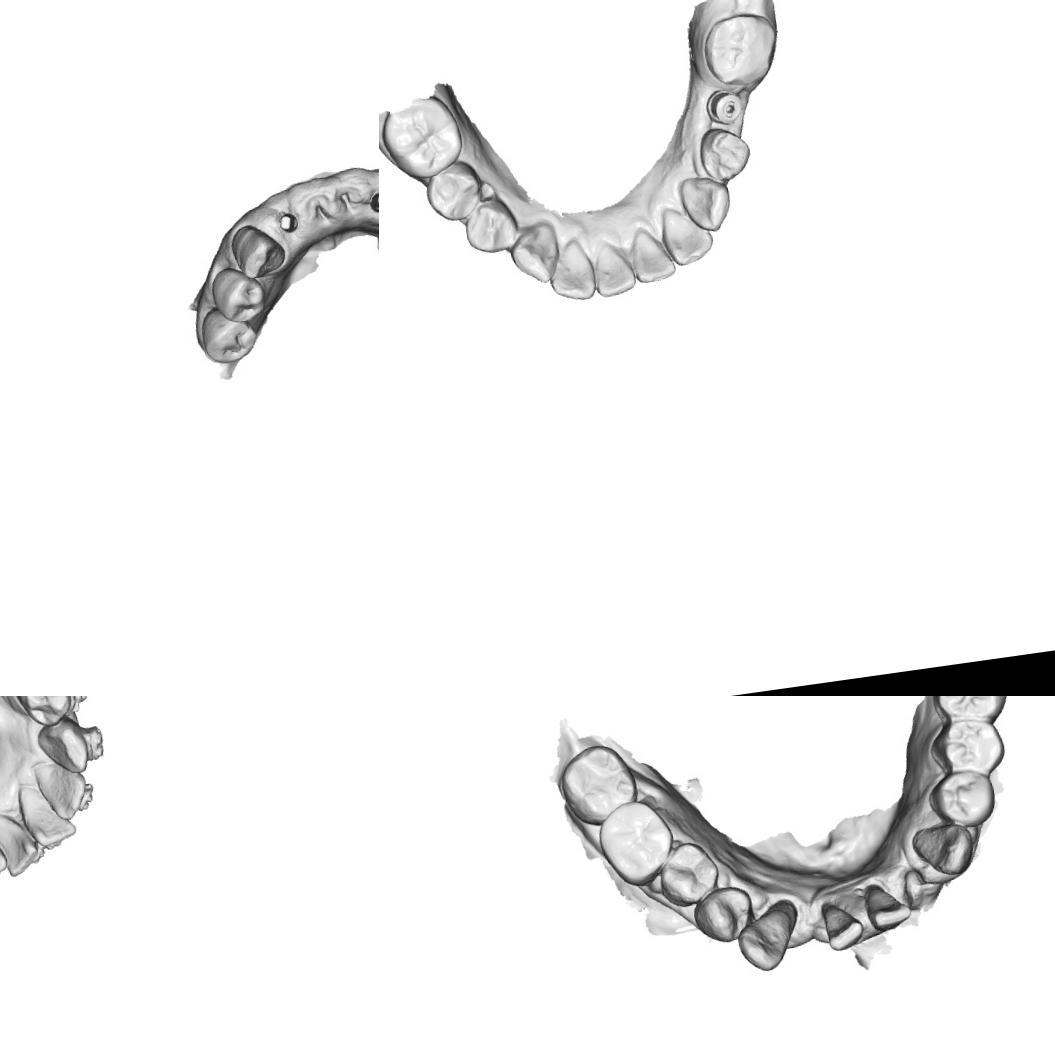abutment: (276, 209, 302, 234), (366, 189, 379, 215)
canine: (735, 901, 802, 976), (908, 818, 978, 882), (228, 219, 292, 282), (505, 218, 563, 287), (677, 171, 735, 236), (32, 720, 92, 781)
implant_minus: (704, 88, 747, 128)
incisor: (18, 783, 77, 851), (658, 202, 717, 268), (544, 235, 598, 304), (36, 759, 90, 826), (0, 807, 44, 879), (588, 236, 638, 299), (628, 222, 678, 285), (860, 880, 912, 931), (818, 898, 864, 951)
molar: (379, 90, 468, 184), (593, 797, 680, 892), (553, 738, 642, 828), (699, 4, 783, 92), (927, 696, 1013, 726)
premolar: (935, 767, 1006, 832), (932, 716, 1004, 778), (420, 158, 486, 225), (689, 882, 754, 948), (198, 301, 260, 366), (207, 262, 269, 326), (460, 195, 522, 257), (662, 841, 722, 904), (696, 123, 756, 185), (10, 696, 74, 729)
